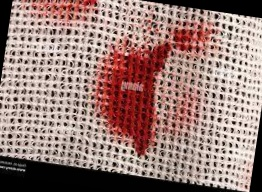blood: (88, 37, 169, 154), (170, 23, 210, 57), (51, 0, 100, 22)
